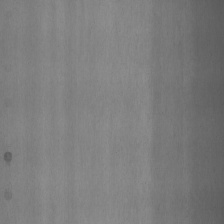oil_spot: (2, 187, 14, 204), (3, 145, 14, 163)
